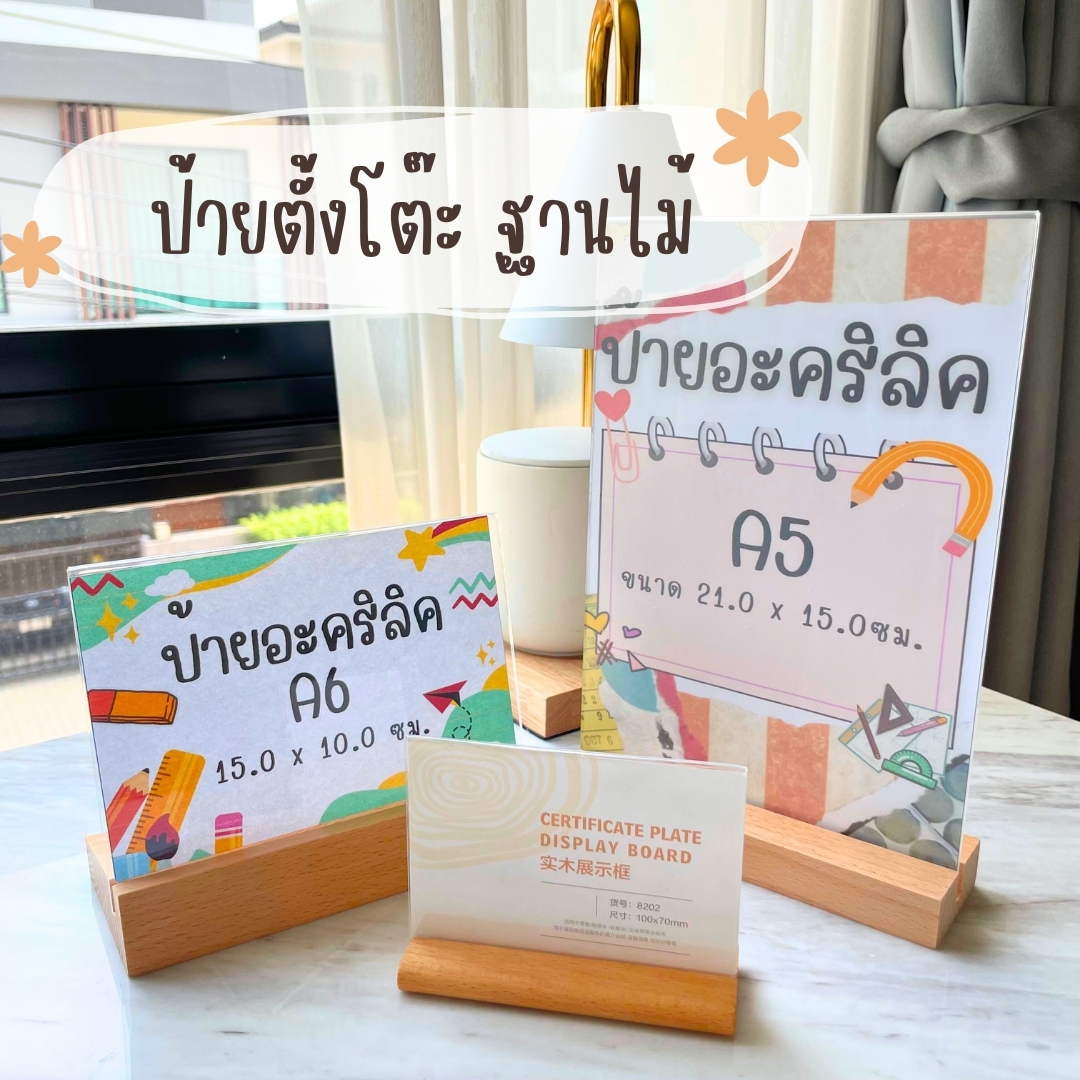text: (136, 141, 480, 276), (598, 321, 994, 419), (150, 569, 453, 694), (598, 147, 707, 270), (491, 186, 620, 264), (717, 497, 826, 588), (793, 598, 928, 654), (276, 655, 359, 731), (537, 808, 703, 846), (536, 829, 693, 866), (207, 742, 281, 789), (683, 576, 761, 619), (312, 720, 382, 765), (535, 851, 633, 882), (616, 565, 690, 603), (607, 908, 689, 930), (384, 713, 432, 745), (606, 893, 663, 915), (763, 596, 790, 622)
